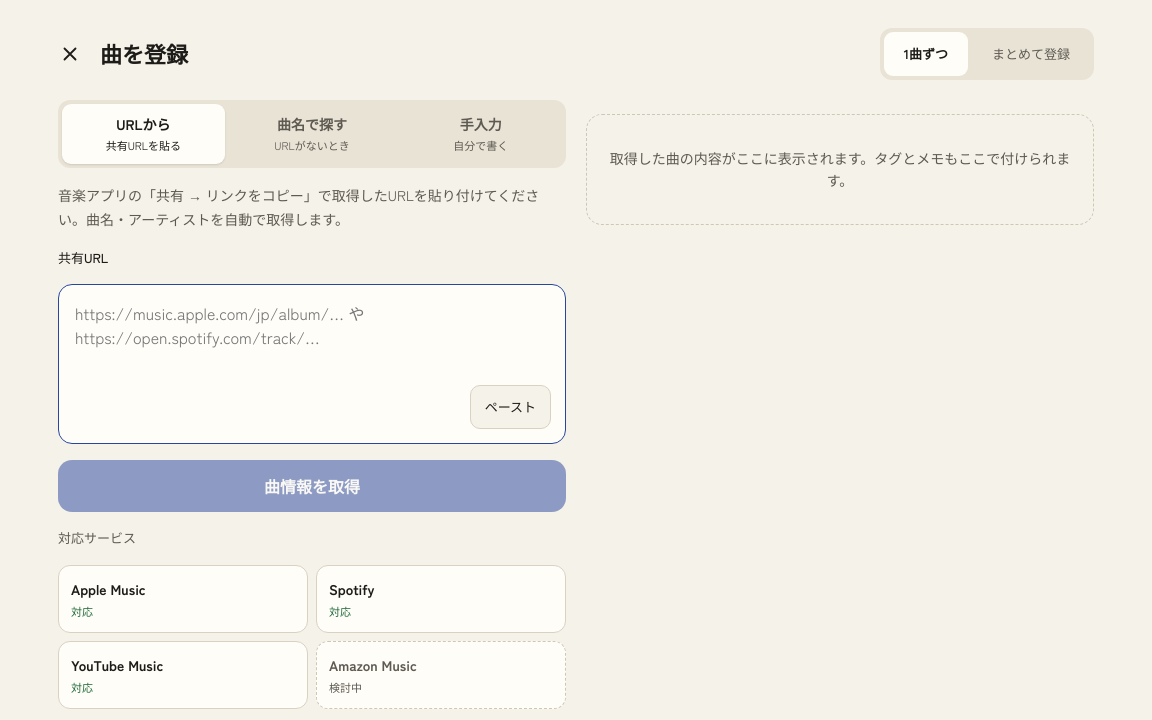
Test: AddSong: Spotify / YouTube Music › Spotify・YouTube Music の URL を認識する
This screenshot has width=1152, height=720.
Replace the text in the text box labelled "共有URL" with "https://open.spotify.com/track/364JzOajs76bJymjHm3sVY" at (312, 337), box [73, 299, 551, 375]
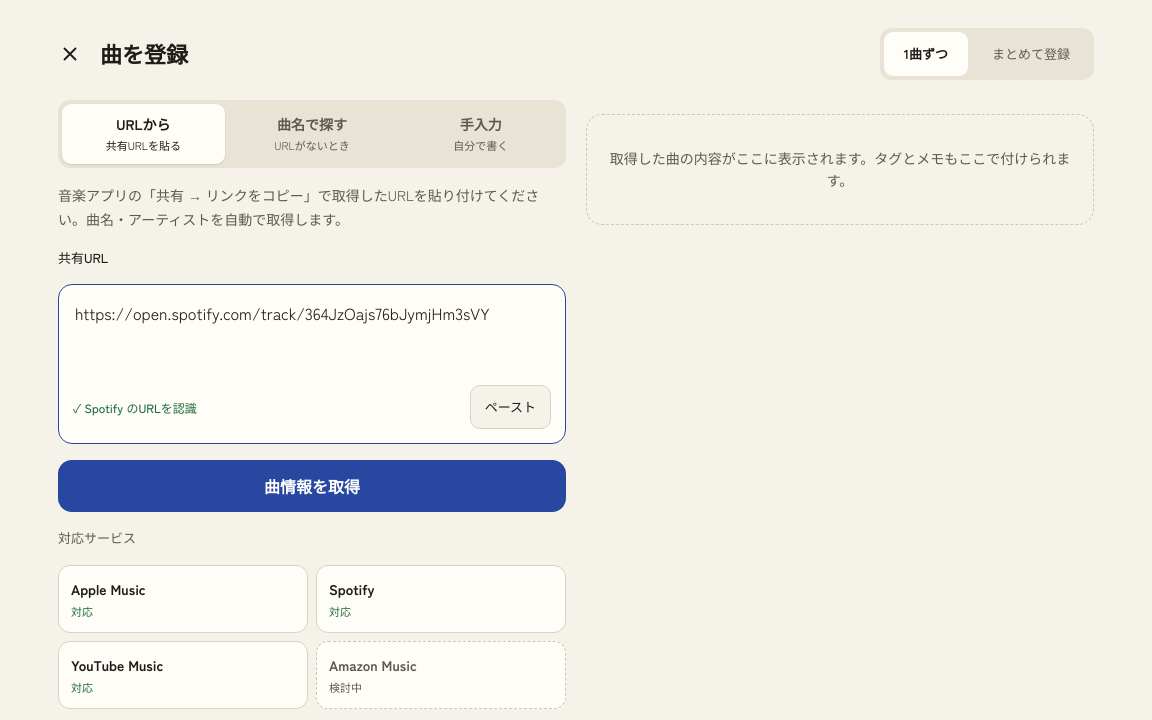
Result: the text "✓ Spotify のURLを認識" is shown at [73, 398, 197, 417]
Replace the text in the text box labelled "共有URL" with "https://music.youtube.com/watch?v=Pmgc40BUVaI" at (312, 337), box [73, 299, 551, 375]
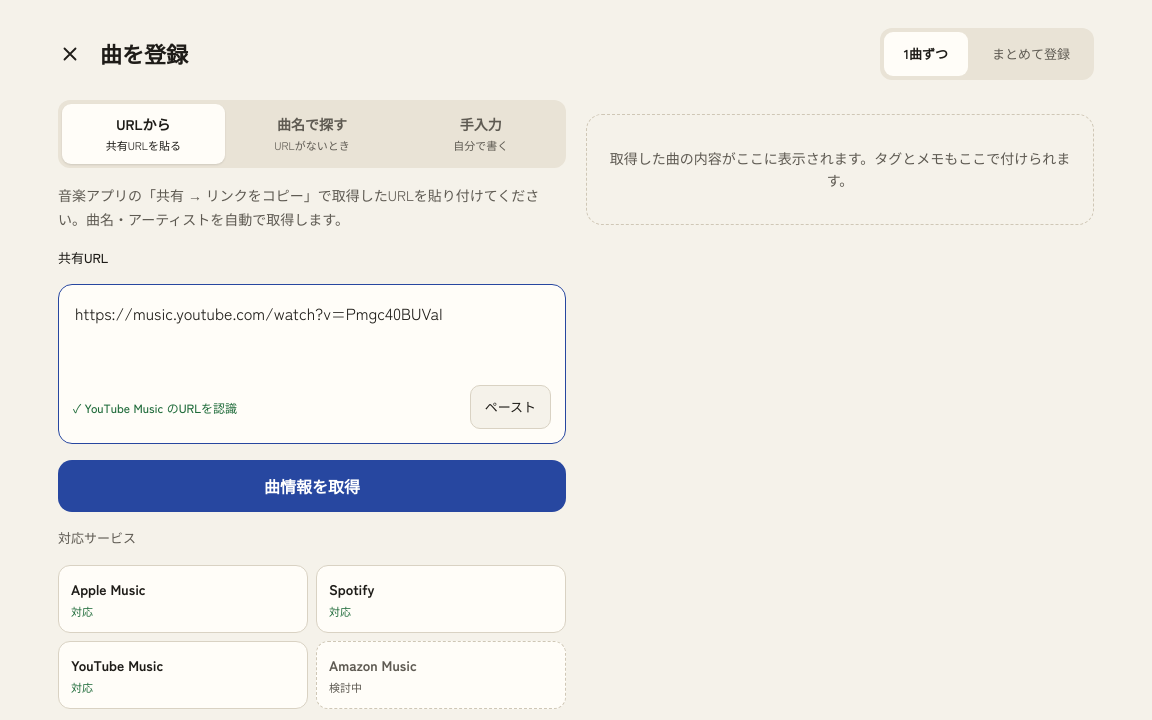
Result: the text "✓ YouTube Music のURLを認識" is shown at [73, 398, 237, 417]
